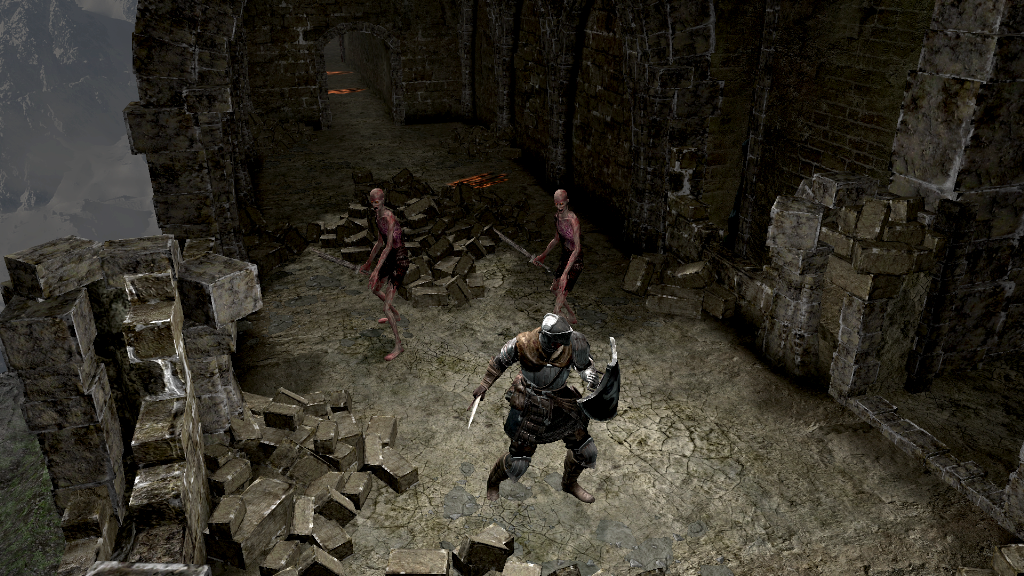hollow: (360, 187, 410, 361), (535, 186, 582, 324)
player: (469, 313, 624, 506)
